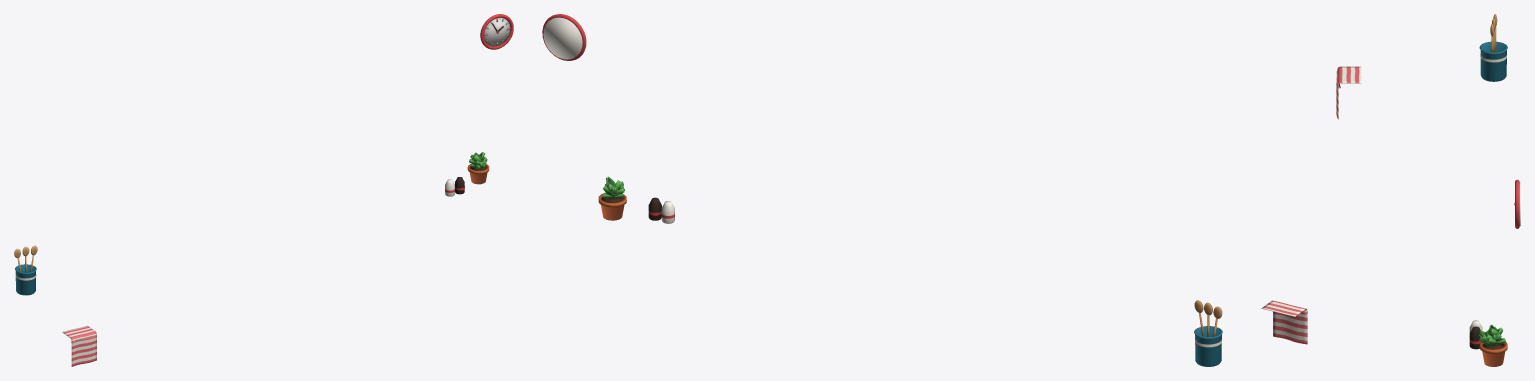
Rendered from props.glb.
3 views of the same model, side by side, from view 1: azimuth 30°, elevation 25°; view 2: azimuth 150°, elevation 25°; view 3: azimuth 270°, elevation 25° (orthographic). The views are drawn at different scales.
Visible parts, largest first — view 1: towel, clock, crock, basil; view 2: clock, crock, towel, basil; view 3: crock, basil, towel, shakers, clock.
Part boxes in pixels (x1,y1,x2,y2): towel: [62, 325, 96, 366]; clock: [480, 14, 513, 49]; crock: [14, 245, 37, 295]; basil: [467, 152, 489, 184]; clock: [542, 14, 586, 60]; crock: [1194, 300, 1222, 366]; towel: [1261, 300, 1307, 344]; basil: [598, 176, 626, 220]; crock: [1479, 14, 1507, 81]; basil: [1479, 324, 1507, 366]; towel: [1336, 66, 1361, 119]; shakers: [1469, 320, 1482, 349]; clock: [1514, 179, 1520, 228].
Size of the model in its own units: 26.01 by 8.77 by 6.25.
5 materials, 5 textured.
